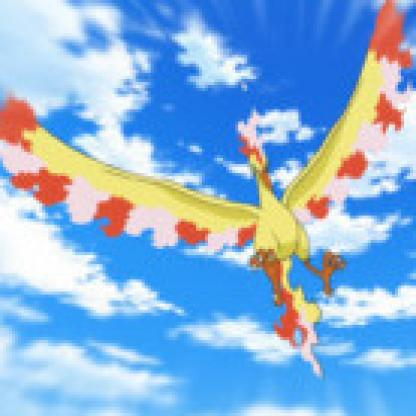Moltres: (1, 14, 414, 366)
